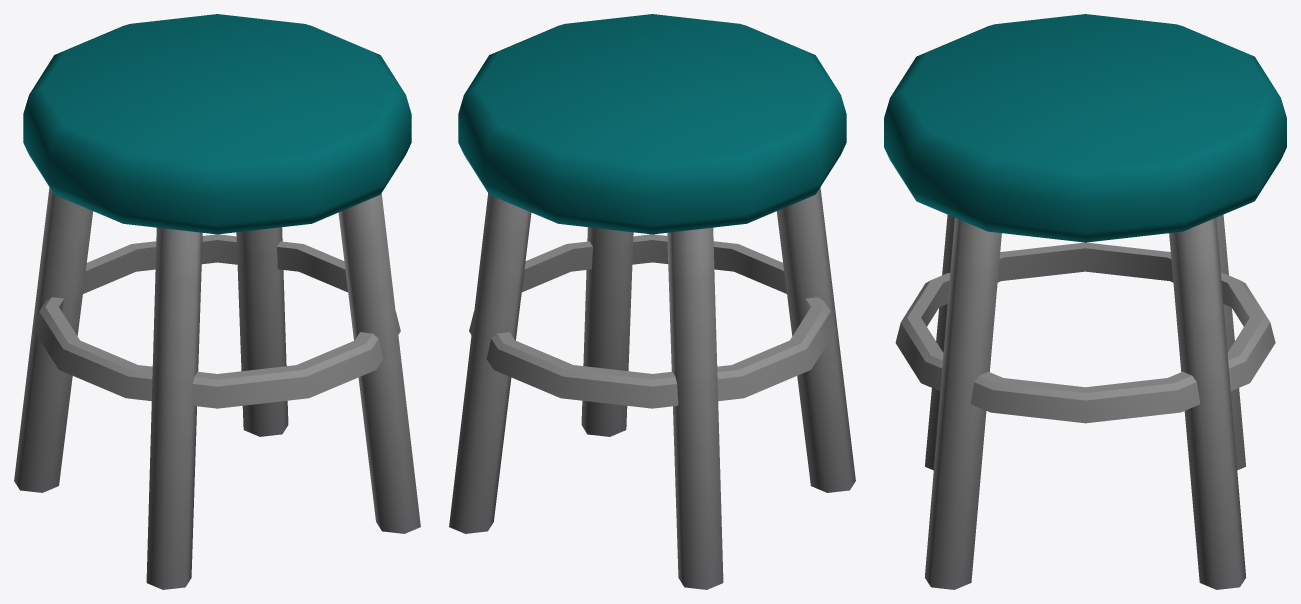
Rendered from Chair_2_E.fbx.
3 views of the same model, side by side, from view 1: azimuth 30°, elevation 25°; view 2: azimuth 150°, elevation 25°; view 3: azimuth 270°, elevation 25° (orthographic). The views are drawn at different scales.
Parts seen in each view (by area): view 1: Chair_2_E; view 2: Chair_2_E; view 3: Chair_2_E.
Part boxes in pixels (left/top/right/bottom): Chair_2_E: left=14, top=14, right=420, bottom=589; Chair_2_E: left=449, top=14, right=855, bottom=589; Chair_2_E: left=884, top=14, right=1286, bottom=589.
Bounding box in the file's own units: 50.02 × 59.1 × 50.04.
